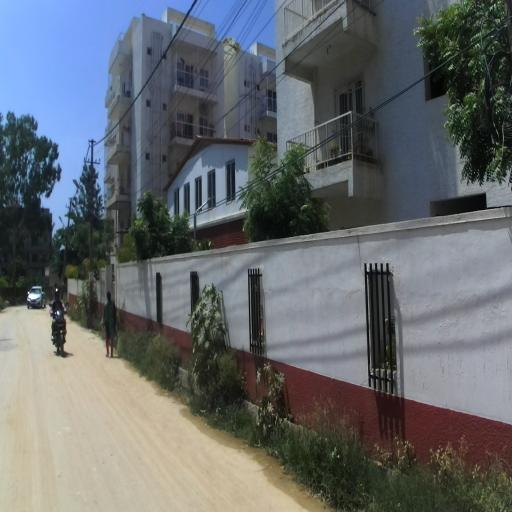street_light_0: (72, 179, 94, 212), (58, 216, 68, 238)
